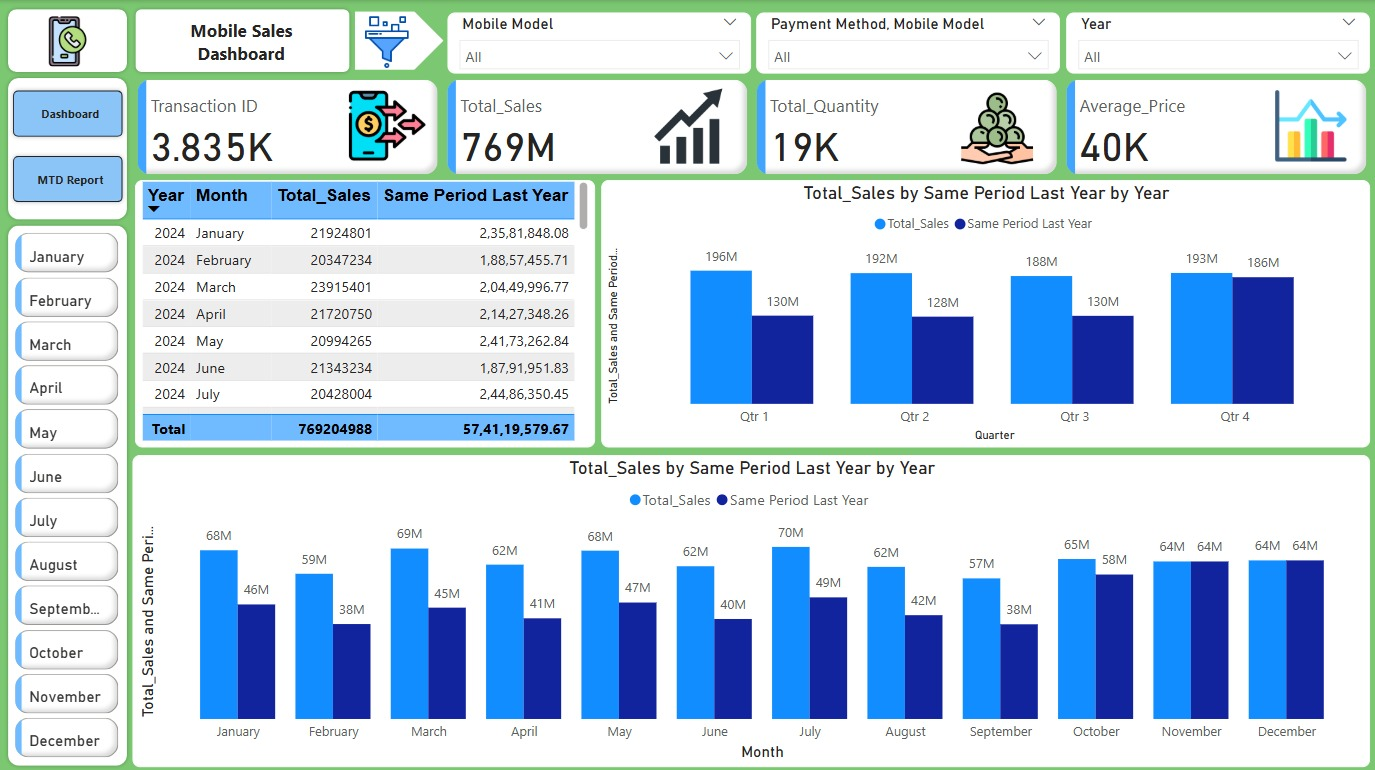

Layout of this report page (visuals, bound fields, positions):
{"tool":"powerbi","page":{"name":"Same Period Last Year","canvas":[1280,720],"ordinal":2},"visuals":[{"type":"shape","box":[3.5,4.7,118.6,66.3],"z":0},{"type":"shape","box":[3.5,68.6,118.6,139.5],"z":1000},{"type":"image","box":[34.9,10.5,55.8,55.8],"z":2000},{"type":"shape","box":[3.5,205.8,118.6,510.5],"z":3000},{"type":"advancedSlicerVisual","fields":{"Values":["Custom_Calendar.Date.Variation.Date Hierarchy.Month"]},"box":[9.3,211.8,107,508.1],"z":4000},{"type":"shape","box":[122.1,4.7,207,66.3],"z":5000},{"type":"textbox","box":[160.5,11.6,127.9,53.5],"z":6000},{"type":"shape","box":[330.2,10.5,82.6,54.7],"z":7000},{"type":"image","box":[330.2,0,59.3,79.1],"z":8000},{"type":"slicer","fields":{"Values":["Sales_Data.Mobile Model"]},"box":[416.3,11.6,282.6,57],"z":9000},{"type":"slicer","fields":{"Values":["Sales_Data.Payment Method","Sales_Data.Mobile Model"]},"box":[703.5,11.6,282.6,57],"z":10000},{"type":"slicer","fields":{"Values":["Custom_Calendar.Date.Variation.Date Hierarchy.Year"]},"box":[991.9,11.6,282.6,57],"z":11000},{"type":"cardVisual","fields":{"Data":["CountNonNull(Sales_Data.Transaction ID)","Sales_Data.Total_Sales","Sales_Data.Total_Quantity","Sales_Data.Average_Price"]},"box":[123.3,70.9,1157,96.5],"z":12000},{"type":"image","box":[887.5,78.8,81.2,81.2],"z":13000},{"type":"image","box":[320,71.2,81.2,92.5],"z":14000},{"type":"image","box":[1181.2,78.8,76.2,76.2],"z":15000},{"type":"image","box":[593.8,71.2,92.5,92.5],"z":16000},{"type":"pageNavigator","box":[116.3,180.2,400,50],"z":17000},{"type":"pageNavigator","box":[8.1,80.2,110.5,112.8],"z":18000},{"type":"tableEx","fields":{"Values":["Custom_Calendar.Date.Variation.Date Hierarchy.Year","Custom_Calendar.Date.Variation.Date Hierarchy.Month","Sales_Data.Total_Sales","Sales_Data.Same Period Last Year"]},"box":[125.6,167.4,427.9,248.8],"z":19000},{"type":"clusteredColumnChart","title":"Total_Sales by Same Period Last Year by Year","fields":{"Category":["Custom_Calendar.Date.Variation.Date Hierarchy.Year","Custom_Calendar.Date.Variation.Date Hierarchy.Quarter","Custom_Calendar.Date.Variation.Date Hierarchy.Month","Custom_Calendar.Date.Variation.Date Hierarchy.Day"],"Y":["Sales_Data.Total_Sales","Sales_Data.Same Period Last Year"]},"box":[559.3,167.4,715.1,248.8],"z":19001},{"type":"clusteredColumnChart","title":"Total_Sales by Same Period Last Year by Year","fields":{"Category":["Custom_Calendar.Date.Variation.Date Hierarchy.Year","Custom_Calendar.Date.Variation.Date Hierarchy.Quarter","Custom_Calendar.Date.Variation.Date Hierarchy.Month","Custom_Calendar.Date.Variation.Date Hierarchy.Day"],"Y":["Sales_Data.Total_Sales","Sales_Data.Same Period Last Year"]},"box":[123.3,423.3,1151.2,290.7],"z":19002}]}

Visuals, with their boxes in screenshot pixels (x1, y1, x2, y2), scaled from the page's 1280x720 canvas onto the 1375x770 screenshot:
shape: 4/5/131/76
shape: 4/73/131/223
image: 37/11/97/71
shape: 4/220/131/766
advancedSlicerVisual - Custom_Calendar.Date.Variation.Date Hierarchy.Month: 10/227/125/769
shape: 131/5/354/76
textbox: 172/12/310/70
shape: 355/11/443/70
image: 355/0/418/85
slicer - Sales_Data.Mobile Model: 447/12/751/73
slicer - Sales_Data.Payment Method x Sales_Data.Mobile Model: 756/12/1059/73
slicer - Custom_Calendar.Date.Variation.Date Hierarchy.Year: 1066/12/1369/73
cardVisual - CountNonNull(Sales_Data.Transaction ID) x Sales_Data.Total_Sales: 132/76/1374/179
image: 953/84/1041/171
image: 344/76/431/175
image: 1269/84/1351/166
image: 638/76/737/175
pageNavigator: 125/193/555/246
pageNavigator: 9/86/127/206
tableEx - Custom_Calendar.Date.Variation.Date Hierarchy.Year x Custom_Calendar.Date.Variation.Date Hierarchy.Month: 135/179/595/445
"Total_Sales by Same Period Last Year by Year" clusteredColumnChart: 601/179/1369/445
"Total_Sales by Same Period Last Year by Year" clusteredColumnChart: 132/453/1369/764
